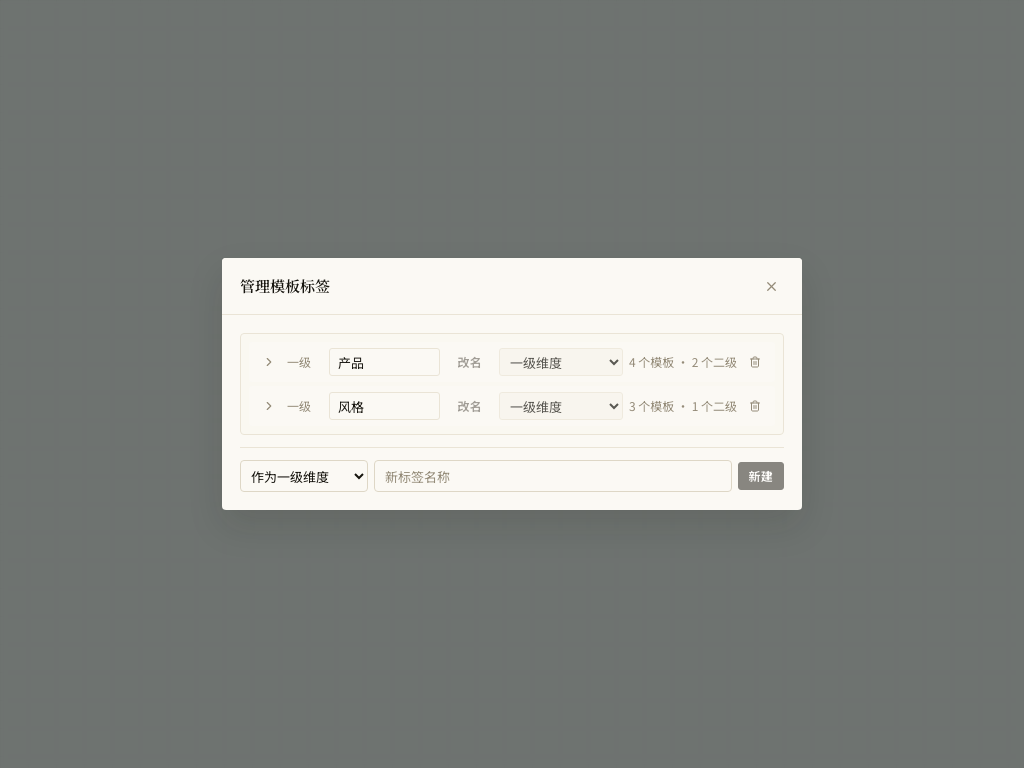
Test: TemplateTagManager · 模板词表结构 › 删维度时把「下级会提升一级」的后果写在确认处
This screenshot has width=1024, height=768.
Click the button named "删除标签 产品".
click(755, 362)  # box [743,350,767,374]
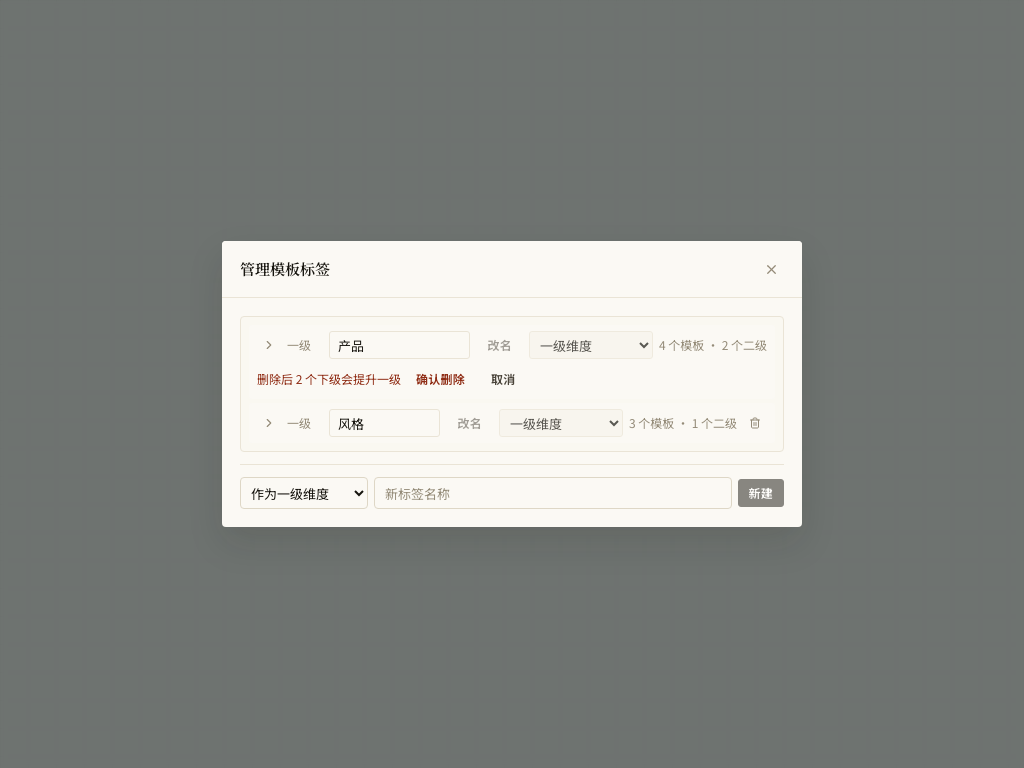
Expected: the text "删除后 2 个下级会提升一级" is shown, [257,370,401,388]
